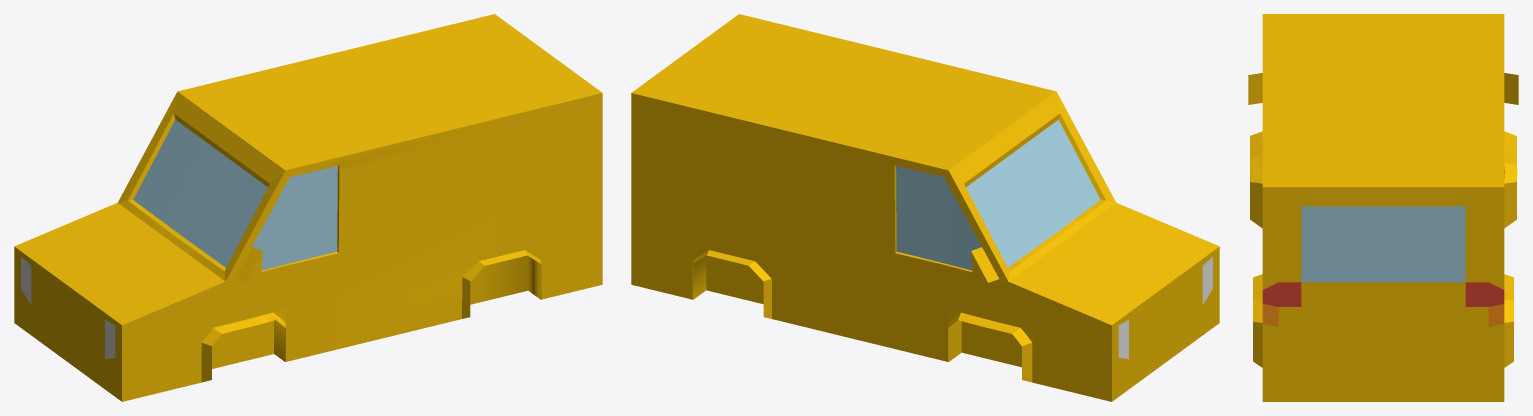
The model's file is yellow DigiVan.fbx.
3 renders of one model, left to right at view 1: azimuth 30°, elevation 25°; view 2: azimuth 150°, elevation 25°; view 3: azimuth 270°, elevation 25°, orthographic. The views are drawn at different scales.
Visible parts, largest first — view 1: Cube; view 2: Cube; view 3: Cube.
Boxes of the visible parts, box(x1,y1,x2,y2) form: Cube: box(14, 14, 602, 401); Cube: box(631, 14, 1219, 401); Cube: box(1248, 14, 1518, 401).
Bounding box in the file's own units: 952 × 363 × 414.
